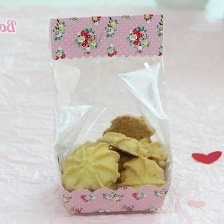snack: (41, 5, 181, 221)
